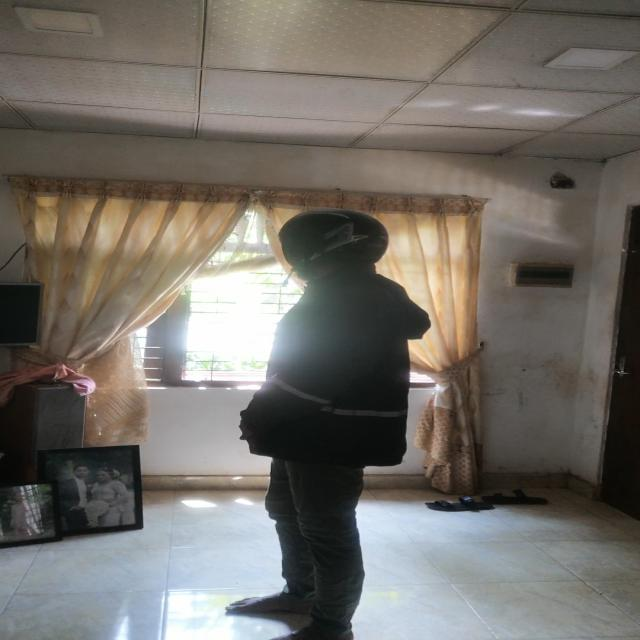Helmet_Wearer: (272, 206, 398, 295)
Jacket_Wearer: (243, 278, 418, 465)
Person: (234, 208, 462, 640)
